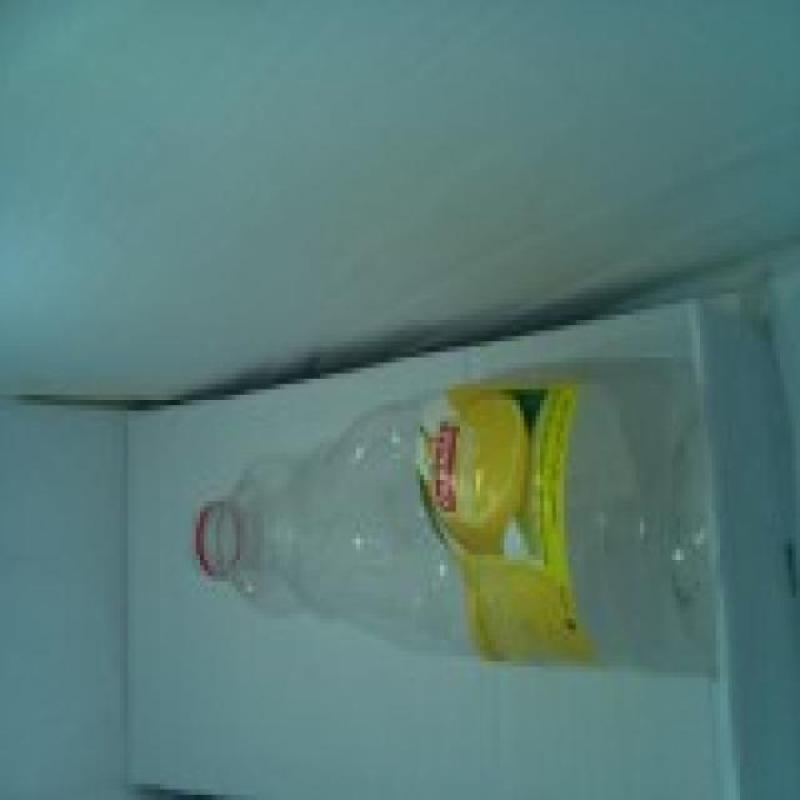botella: (192, 358, 718, 680)
